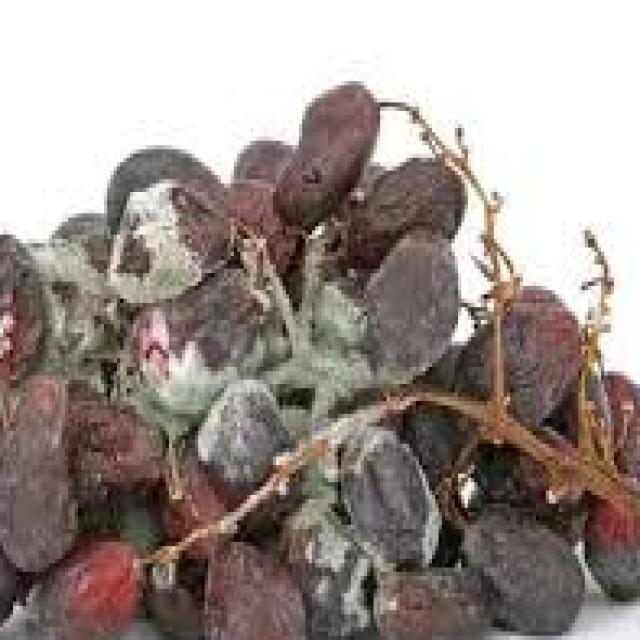inorganic: (0, 79, 611, 614)
